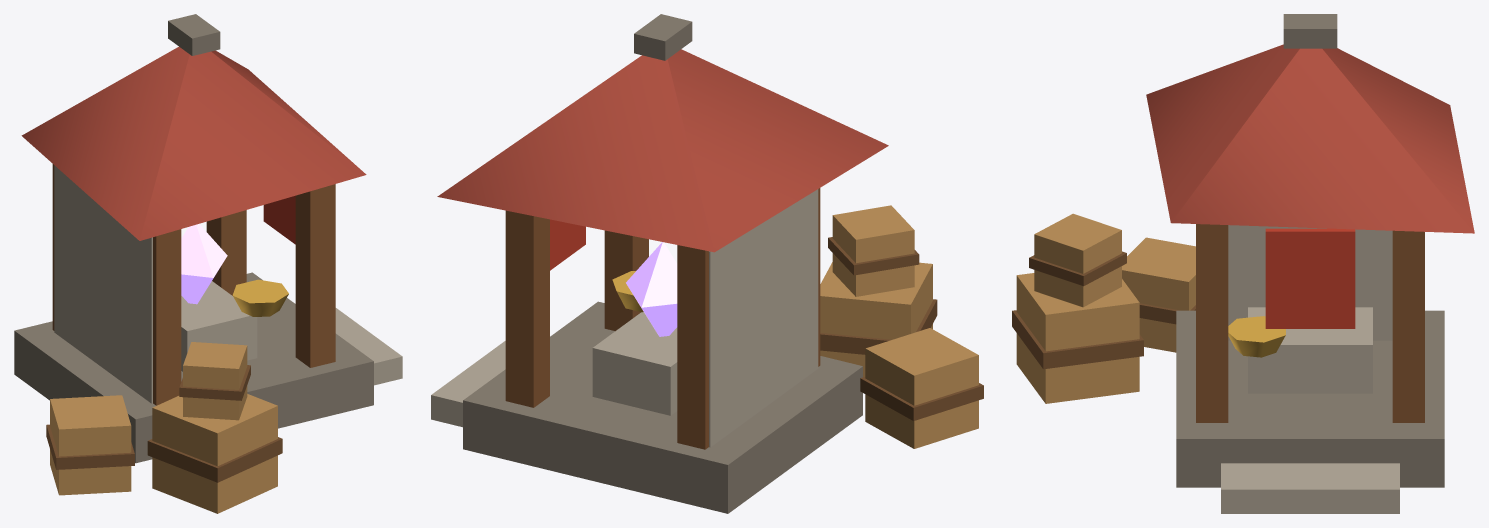
The model's file is landmark_shrine.glb.
3 renders of one model, left to right at view 1: azimuth 30°, elevation 25°; view 2: azimuth 150°, elevation 25°; view 3: azimuth 270°, elevation 25°, orthographic. The views are drawn at different scales.
Visible parts, largest first — view 1: shrine_roof, shrine_base, shrine_back, shrine, crate_0_box, crate_1_box, crate_2_box, shrine_altar, shrine_relic, crate_0_band, shrine_step, shrine_ridge (+4 smaller); view 2: shrine_roof, shrine_base, shrine_back, shrine, crate_1_box, shrine_altar, crate_0_box, crate_2_box, shrine_relic, shrine_step, shrine_ridge, crate_1_band (+3 smaller); view 3: shrine_roof, shrine_base, shrine, crate_0_box, banner, shrine_step, shrine_altar, shrine_back, crate_2_box, crate_1_box, crate_0_band, shrine_ridge (+3 smaller).
Part boxes in pixels (x1,y1,x2,y2): shrine_roof: [21, 47, 366, 240]; shrine_base: [14, 272, 373, 463]; shrine_back: [54, 165, 152, 403]; shrine: [52, 164, 335, 405]; crate_0_box: [152, 394, 277, 513]; crate_1_box: [50, 395, 131, 495]; crate_2_box: [183, 342, 247, 420]; shrine_altar: [181, 281, 257, 371]; shrine_relic: [181, 224, 227, 304]; crate_0_band: [147, 437, 282, 482]; shrine_step: [335, 308, 402, 385]; shrine_ridge: [168, 14, 220, 55]; shrine_roof: [437, 49, 888, 252]; shrine_base: [463, 301, 862, 513]; shrine_back: [709, 189, 818, 447]; shrine: [505, 188, 820, 449]; crate_1_box: [865, 328, 978, 448]; shrine_altar: [592, 312, 677, 415]; crate_0_box: [820, 262, 932, 377]; crate_2_box: [832, 205, 914, 296]; shrine_relic: [626, 242, 677, 336]; shrine_step: [431, 341, 505, 427]; shrine_ridge: [634, 14, 692, 60]; crate_1_band: [860, 377, 983, 420]; shrine_roof: [1146, 44, 1474, 233]; shrine_base: [1176, 310, 1444, 487]; shrine: [1196, 224, 1424, 422]; crate_0_box: [1016, 273, 1139, 403]; banner: [1265, 228, 1355, 328]; shrine_step: [1221, 463, 1399, 513]; shrine_altar: [1248, 307, 1372, 393]; shrine_back: [1228, 225, 1392, 340]; crate_2_box: [1034, 213, 1121, 307]; crate_1_box: [1122, 237, 1195, 352]; crate_0_band: [1012, 310, 1143, 369]; shrine_ridge: [1283, 14, 1337, 48].
Bounding box in the file's own units: 0.2721 × 0.248 × 0.2588.
